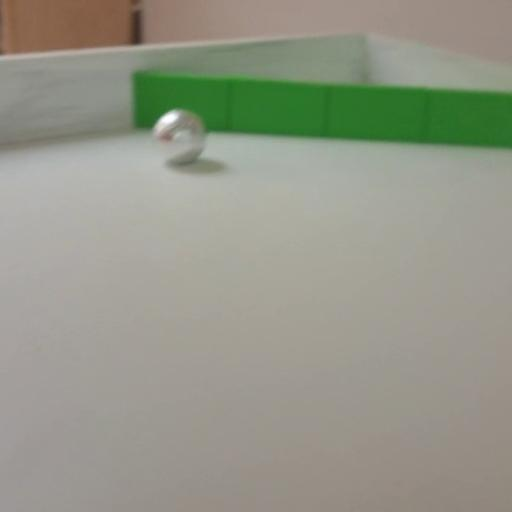alive: (153, 110, 207, 167)
